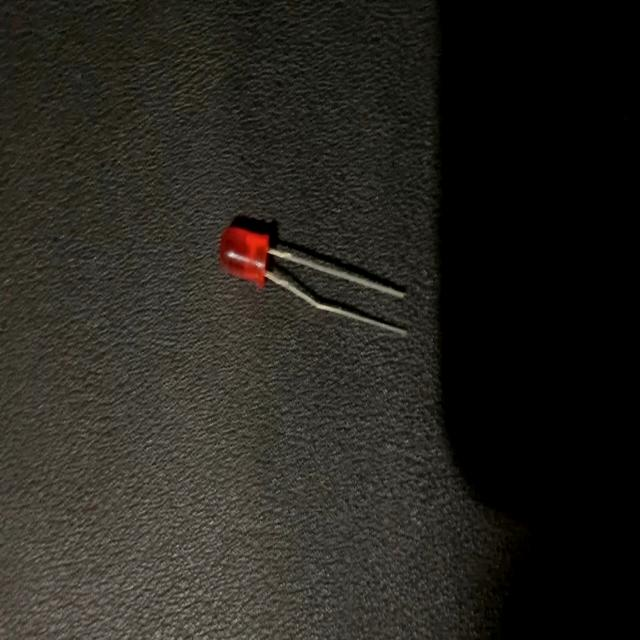LED: (218, 221, 410, 339)
